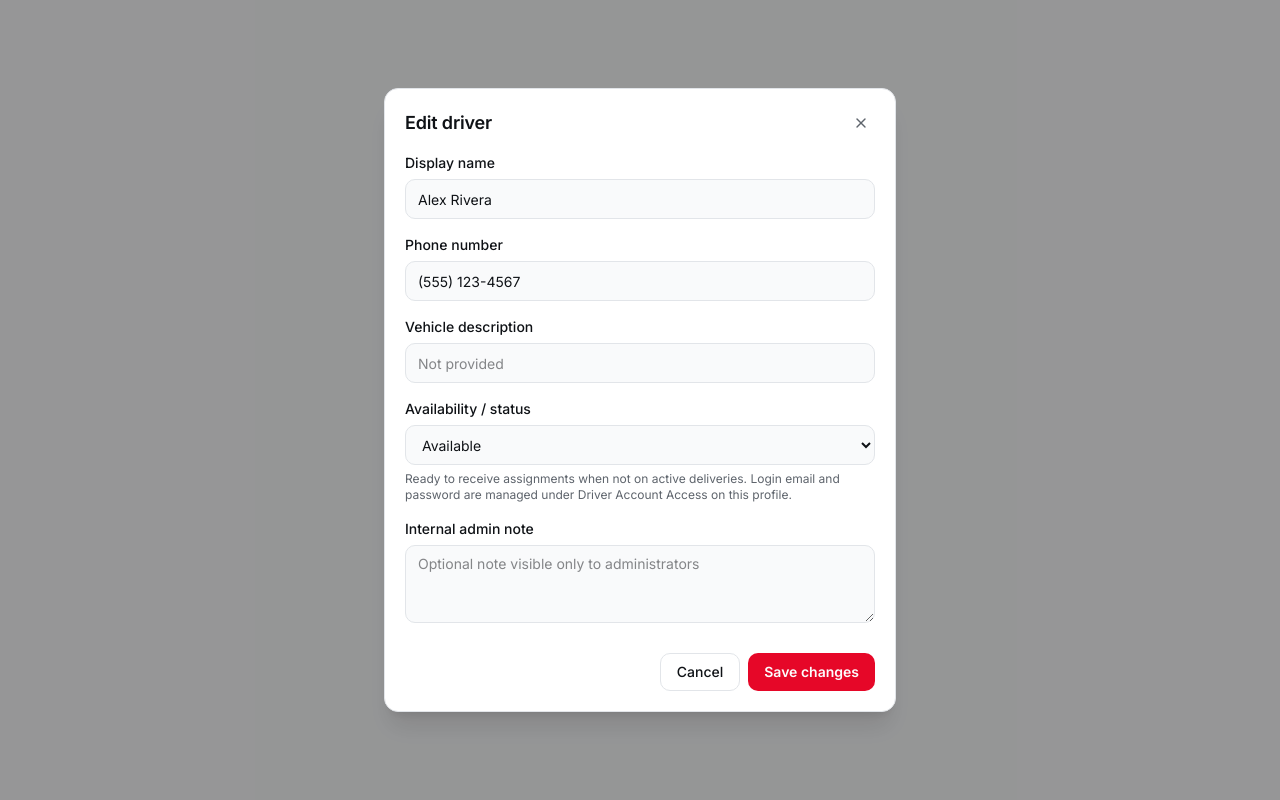
Test case: DriverEditDialog › warns before deactivating a driver with active assignments
The image size is (1280, 800).
Select "Inactive" in the dropdown. click: x=640, y=445
box: [405, 425, 875, 465]
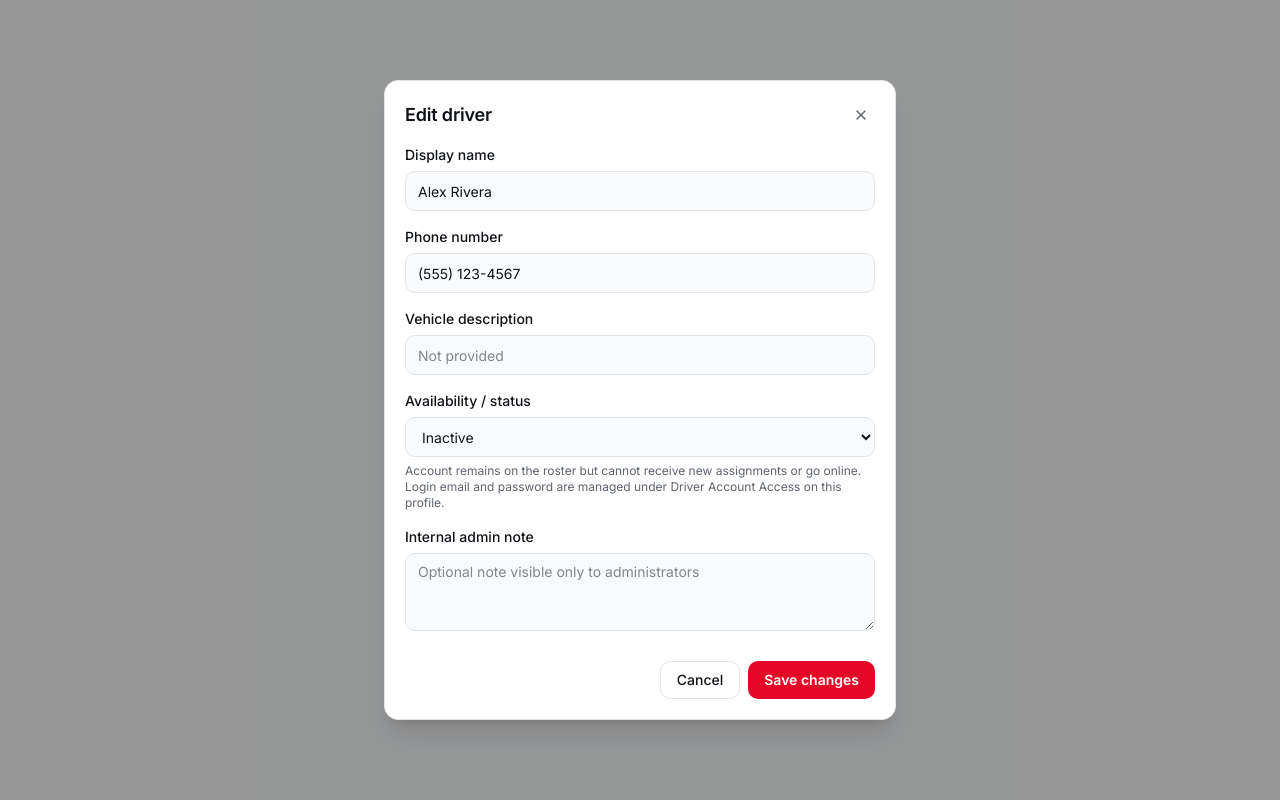
Click the button "Save changes". click: x=812, y=680
box: [748, 661, 875, 699]
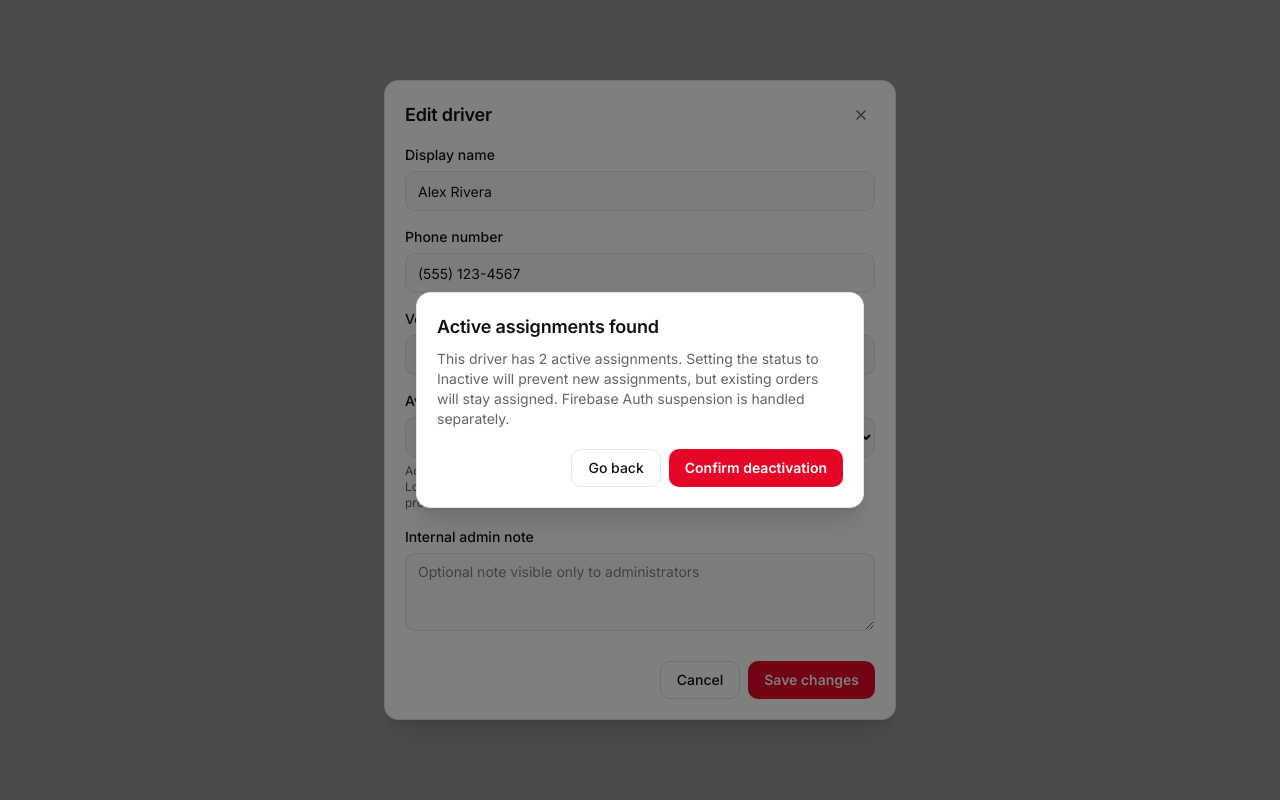
Result: the dialog that starts with "Active assignments found" is shown at [416, 292, 864, 508]
Result: the heading "Active assignments found" is shown at [437, 316, 659, 337]
